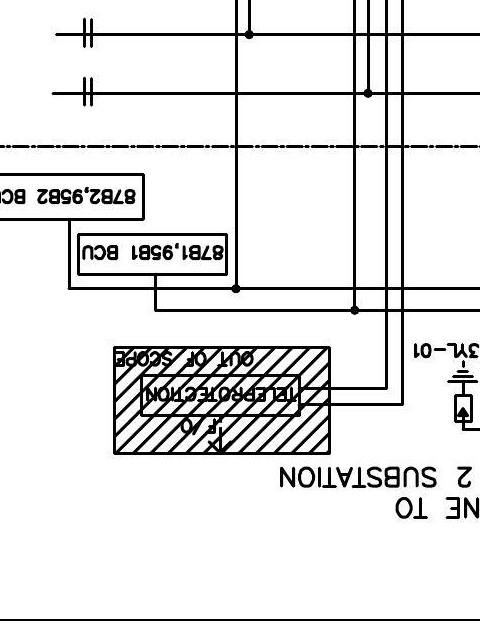11522_tx_dyn1: (307, 289, 312, 303), (217, 289, 221, 303)
115_1way_ds_w_motor: (141, 122, 149, 136), (112, 122, 119, 136), (310, 130, 318, 141), (209, 130, 216, 141), (174, 114, 181, 124), (160, 114, 167, 124), (266, 117, 275, 124), (300, 130, 307, 137), (304, 236, 310, 243), (214, 236, 220, 243), (256, 230, 262, 237), (253, 117, 259, 124), (163, 230, 169, 237), (222, 130, 228, 136), (262, 238, 265, 249), (170, 238, 172, 249)
115_breaker: (307, 157, 310, 165), (217, 157, 220, 165), (116, 188, 119, 196), (259, 157, 262, 164), (167, 157, 169, 164)
115_buffer: (332, 99, 334, 105), (332, 110, 334, 116)
115_gs_w_motor: (160, 128, 165, 139), (251, 239, 258, 246), (299, 229, 306, 236), (209, 229, 216, 236), (158, 225, 166, 231), (158, 239, 166, 245), (139, 92, 145, 100), (207, 141, 215, 147), (253, 128, 257, 139), (251, 225, 258, 231), (209, 245, 216, 251), (108, 92, 115, 98), (110, 141, 117, 147), (299, 245, 306, 251), (298, 141, 305, 147), (140, 141, 146, 147)
115_la: (202, 41, 206, 53), (295, 41, 298, 53), (215, 280, 218, 283), (305, 280, 308, 283)
115_vt_1p: (81, 149, 93, 168), (96, 149, 108, 168)
115_vt_3p: (262, 230, 278, 250), (170, 230, 185, 250)
22_breaker: (383, 354, 386, 372), (187, 355, 190, 372), (172, 353, 174, 371), (116, 354, 118, 372), (265, 354, 267, 372), (156, 354, 158, 372), (103, 354, 105, 372), (48, 354, 50, 372), (80, 354, 82, 372), (297, 354, 299, 372), (315, 354, 317, 372), (328, 354, 330, 372), (368, 354, 370, 372), (400, 354, 402, 372), (217, 342, 227, 345)
22_cap_bank: (387, 444, 419, 483), (33, 443, 65, 482)
22_ds: (203, 354, 206, 375), (247, 354, 250, 375)
22_ds_la_out: (381, 440, 387, 457), (170, 440, 175, 457), (263, 440, 268, 457), (154, 440, 159, 457), (78, 440, 83, 457), (186, 440, 191, 457), (101, 440, 106, 457), (295, 440, 300, 457), (313, 440, 318, 457), (366, 440, 371, 457)
22_ds_out: (45, 407, 48, 415), (100, 407, 103, 415), (184, 407, 187, 415), (77, 407, 80, 415), (152, 407, 155, 415), (245, 407, 248, 415), (262, 407, 265, 415), (293, 407, 296, 415), (311, 407, 314, 415), (365, 407, 368, 415), (380, 407, 383, 415), (397, 407, 400, 415), (200, 404, 203, 411), (113, 441, 116, 448), (169, 407, 171, 415), (326, 441, 328, 447)
22_gs: (158, 405, 161, 408), (174, 405, 177, 408), (190, 405, 193, 408), (250, 405, 253, 408), (299, 405, 302, 408), (317, 405, 320, 408), (370, 405, 373, 408), (386, 405, 389, 408), (118, 439, 121, 441), (51, 405, 53, 408), (83, 405, 85, 408), (106, 405, 108, 408), (268, 405, 270, 408), (403, 405, 405, 408), (206, 402, 208, 404), (331, 439, 333, 441)
22_ll: (233, 354, 245, 387), (208, 354, 219, 387)
DIM: (124, 396, 129, 402), (273, 388, 278, 394), (176, 204, 181, 210), (88, 388, 93, 394), (336, 396, 341, 402), (226, 384, 230, 390), (269, 204, 273, 209)
DPM: (216, 397, 221, 404), (224, 396, 229, 403), (97, 197, 102, 203), (238, 314, 243, 319), (328, 314, 333, 319), (275, 141, 279, 145), (183, 141, 186, 146)
MU: (197, 297, 206, 303), (344, 297, 353, 303)
NGR_future: (66, 457, 70, 462), (420, 451, 424, 456)
remote_io_module: (179, 146, 185, 156), (271, 146, 277, 156), (127, 187, 133, 197)
ss_man_mode: (312, 43, 328, 51), (220, 43, 235, 51)
tele_protection: (289, 40, 293, 49), (196, 40, 200, 49), (168, 258, 172, 263), (261, 258, 265, 263), (116, 449, 120, 454), (308, 318, 313, 321), (329, 449, 332, 454), (217, 318, 220, 321)
terminator_double: (172, 435, 174, 438), (156, 435, 158, 438), (188, 435, 190, 438), (104, 435, 106, 438), (204, 456, 206, 459), (248, 456, 250, 459), (49, 434, 51, 437), (218, 260, 220, 263), (218, 273, 220, 276), (308, 260, 310, 263), (308, 273, 310, 276), (266, 435, 268, 438), (297, 435, 299, 438), (315, 435, 317, 438), (368, 435, 370, 438), (384, 435, 386, 438), (401, 433, 402, 437), (81, 435, 82, 438)
terminator_splicing_kits: (248, 409, 253, 415), (368, 409, 373, 415), (204, 406, 208, 413), (49, 409, 53, 415), (81, 409, 85, 415), (104, 409, 108, 415), (156, 409, 160, 415), (172, 409, 176, 415), (188, 409, 192, 415), (266, 409, 270, 415), (297, 409, 301, 415), (315, 409, 319, 415), (384, 409, 388, 415), (401, 409, 405, 415)
terminator_w_future: (231, 303, 235, 309), (321, 303, 325, 309)
v_m: (92, 187, 101, 193), (77, 187, 85, 193)
